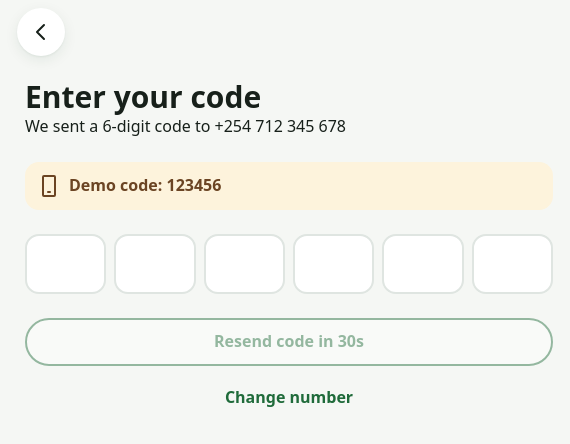
Test: OTP shows the demo code and rejects a wrong code
This screenshot has width=570, height=444.
Check: the text "Demo code: 123456" is shown, box x1=25 y1=162 x2=553 y2=210
Check: the text "We sent a 6-digit code to +254 712 345 678" is shown, box x1=25 y1=114 x2=346 y2=136
Click the field named "Digit 1": (66, 264) x1=25 y1=234 x2=106 y2=294
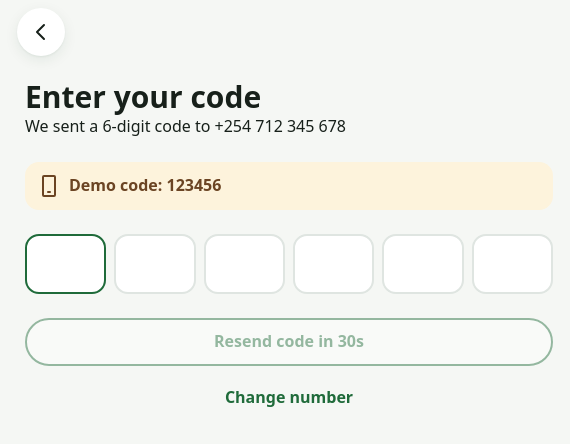
Type keys "000000"
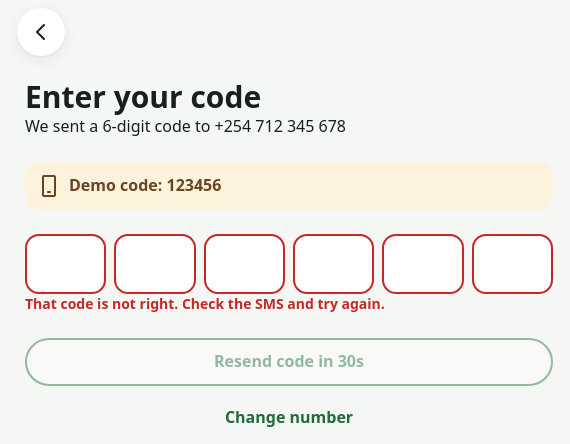
Check: the field named "Digit 1" is empty, box x1=25 y1=234 x2=106 y2=294
Check: the message shows "not right", box x1=25 y1=294 x2=385 y2=313
